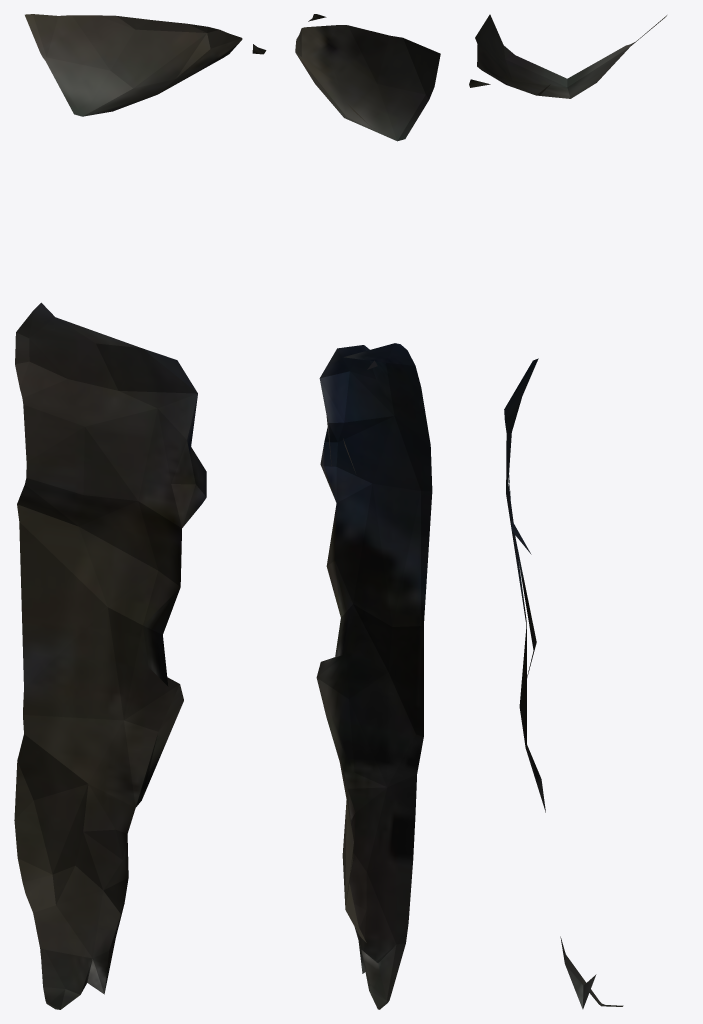
The picture shows the model from 3 angles, left to right: view 1: azimuth 30°, elevation 25°; view 2: azimuth 150°, elevation 25°; view 3: azimuth 270°, elevation 25°; orthographic projection. The views are drawn at different scales.
Size of the model in its own units: 0.1176 by 0.7541 by 0.1514.
1 material, 1 textured.
